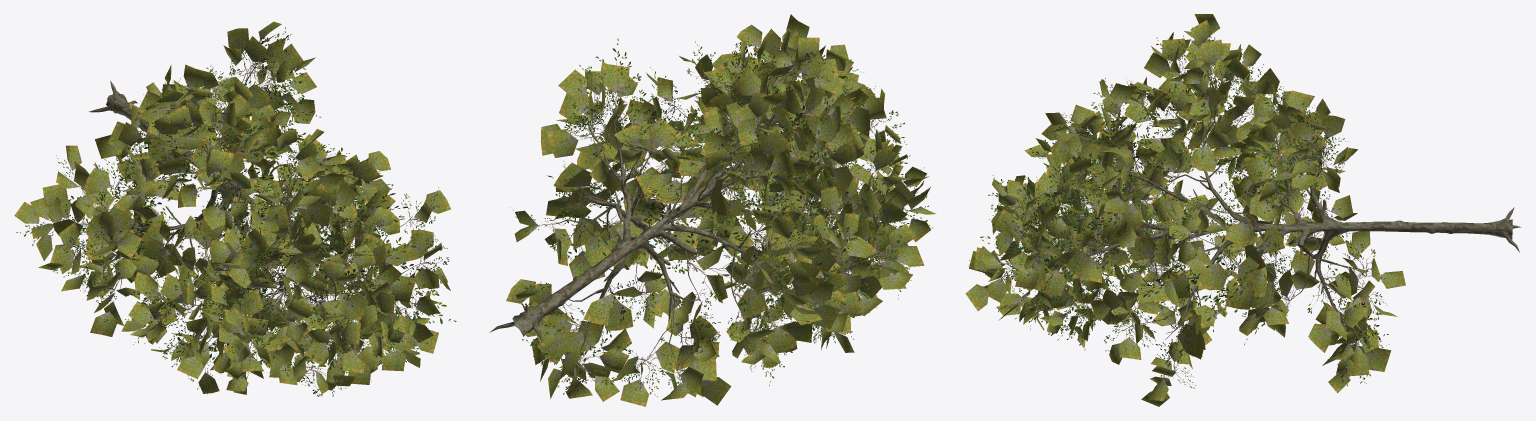
Rendered from Broadleaf_Desktop_Field.fbx.
3 views of the same model, side by side, from view 1: azimuth 30°, elevation 25°; view 2: azimuth 150°, elevation 25°; view 3: azimuth 270°, elevation 25° (orthographic). The views are drawn at different scales.
Visible parts, largest first — view 1: LOD0; view 2: LOD0; view 3: LOD0.
Boxes of the visible parts, x1,y1,x2,y2 form: LOD0: (14, 21, 456, 396); LOD0: (489, 14, 936, 406); LOD0: (965, 14, 1521, 406).
Size of what is drawn, in the model's own units: 40.68 by 38.65 by 61.5.
